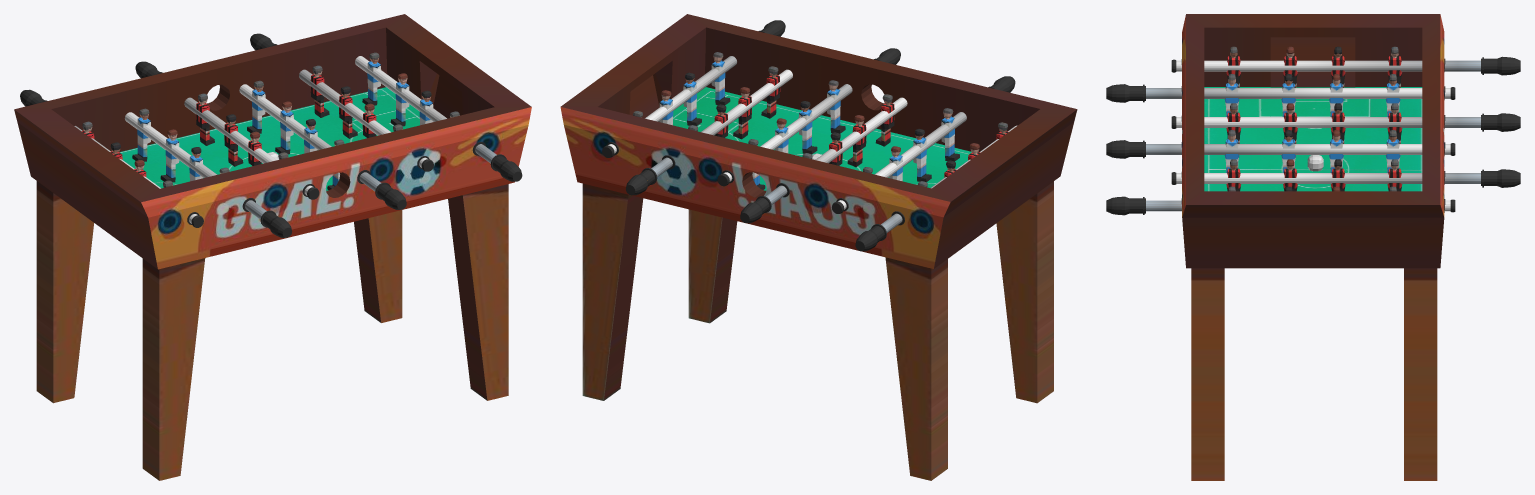
Rendered from MesaPebolim.fbx.
3 views of the same model, side by side, from view 1: azimuth 30°, elevation 25°; view 2: azimuth 150°, elevation 25°; view 3: azimuth 270°, elevation 25° (orthographic).
Parts seen in each view (by area): view 1: MesaToto; view 2: MesaToto; view 3: MesaToto.
Part boxes in pixels (<box>): MesaToto: <box>14,14,531,480</box>; MesaToto: <box>560,14,1077,480</box>; MesaToto: <box>1106,14,1520,480</box>.
Bounding box in the file's own units: 141 × 98.61 × 129.
